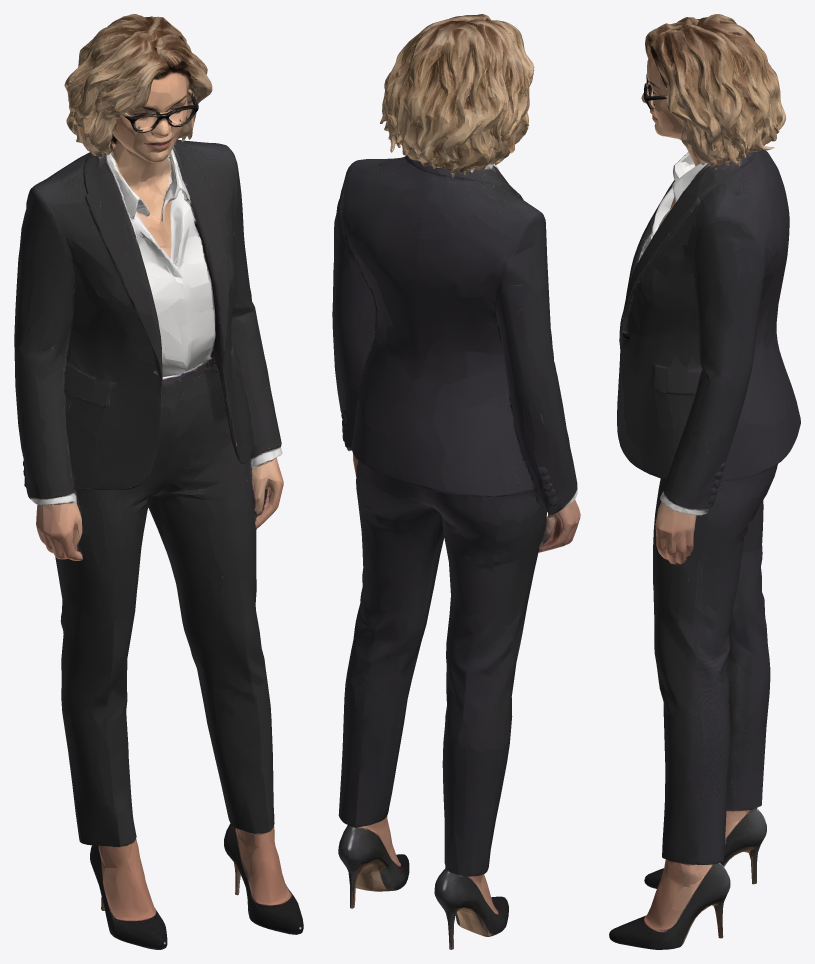
The model's file is financial-services.glb.
3 views of the same model, side by side, from view 1: azimuth 30°, elevation 25°; view 2: azimuth 150°, elevation 25°; view 3: azimuth 270°, elevation 25° (orthographic). The views are drawn at different scales.
Bounding box in the file's own units: 0.5299 × 1.9 × 0.3807.
Materials: 1 (1 with a texture image).
